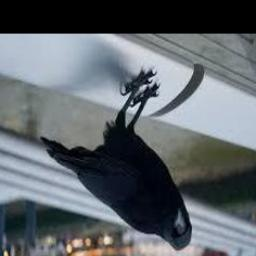Crow: (40, 69, 191, 250)
